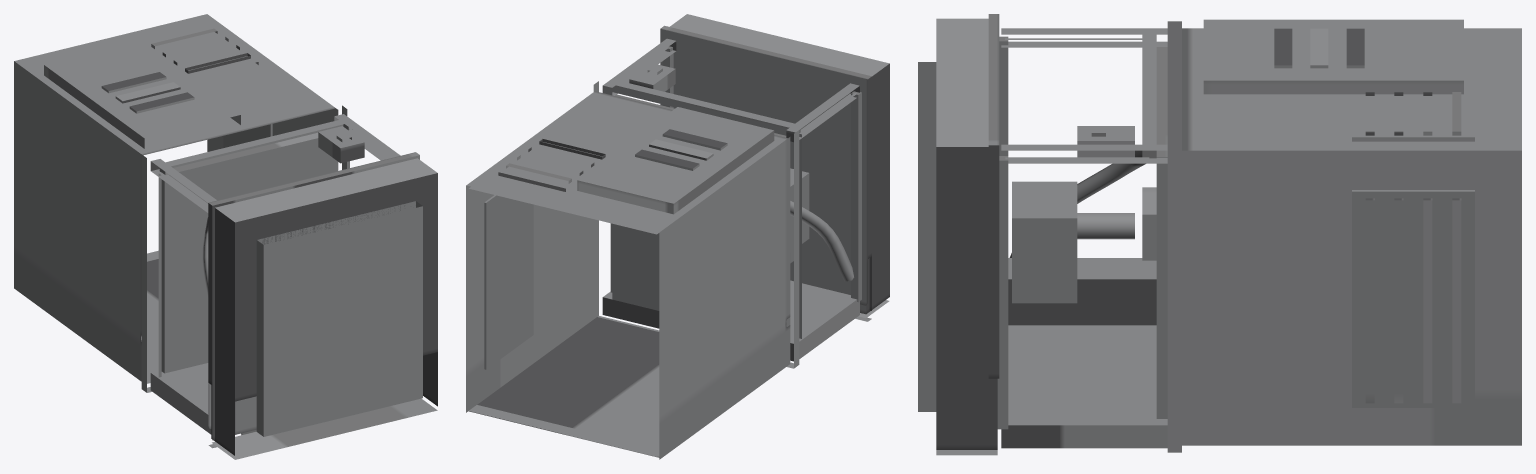
The picture shows the model from 3 angles, left to right: view 1: azimuth 30°, elevation 25°; view 2: azimuth 150°, elevation 25°; view 3: azimuth 270°, elevation 25°; orthographic projection. The views are drawn at different scales.
Bounding box in the file's own units: 0.86 × 0.981 × 1.67.
